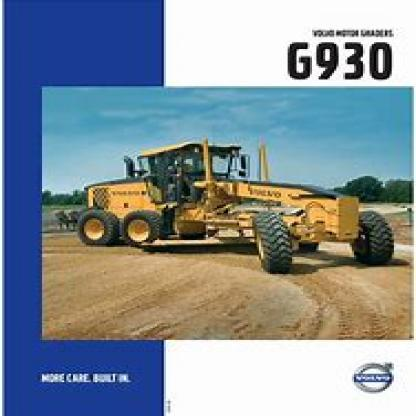bull_dozer/loader/grader: (71, 130, 414, 276)
